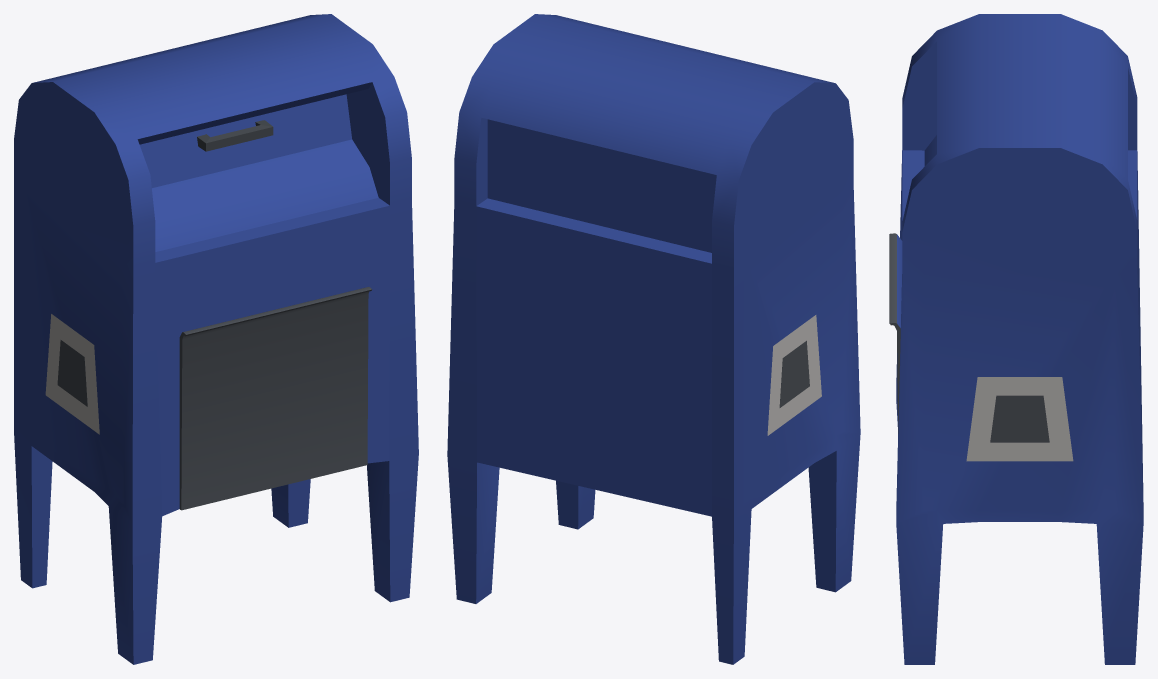
Rendered from Postal Box_1.fbx.
3 views of the same model, side by side, from view 1: azimuth 30°, elevation 25°; view 2: azimuth 150°, elevation 25°; view 3: azimuth 270°, elevation 25° (orthographic).
Visible parts, largest first — view 1: Postal Box_1; view 2: Postal Box_1; view 3: Postal Box_1.
Boxes of the visible parts, x1,y1,x2,y2 form: Postal Box_1: [14, 14, 418, 664]; Postal Box_1: [447, 14, 860, 664]; Postal Box_1: [889, 14, 1143, 664].
Size of the model in its own units: 97.52 by 171 by 76.08.
